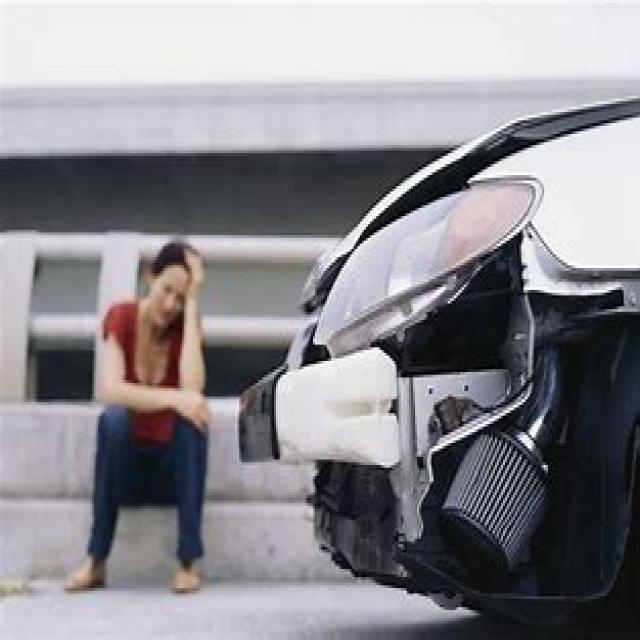Accident: (157, 134, 640, 623)
